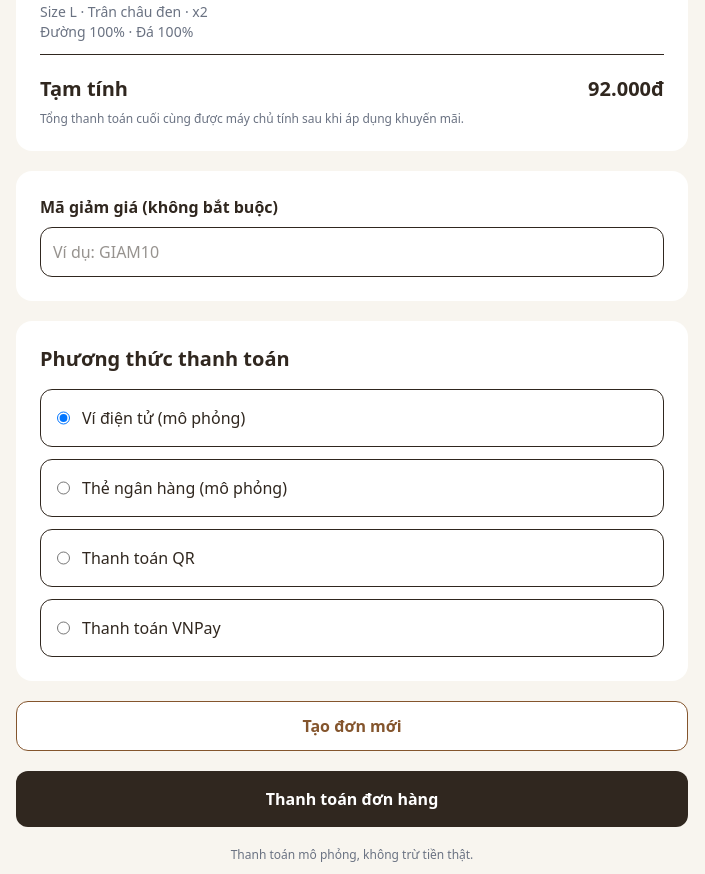
Test case: Checkout - xu ly don hang cu › gio thay doi: bam Tao don moi de dat lai
(page scrolled)
Click the button "Thanh toán đơn hàng".
click(352, 799)  # box x1=16 y1=771 x2=688 y2=827
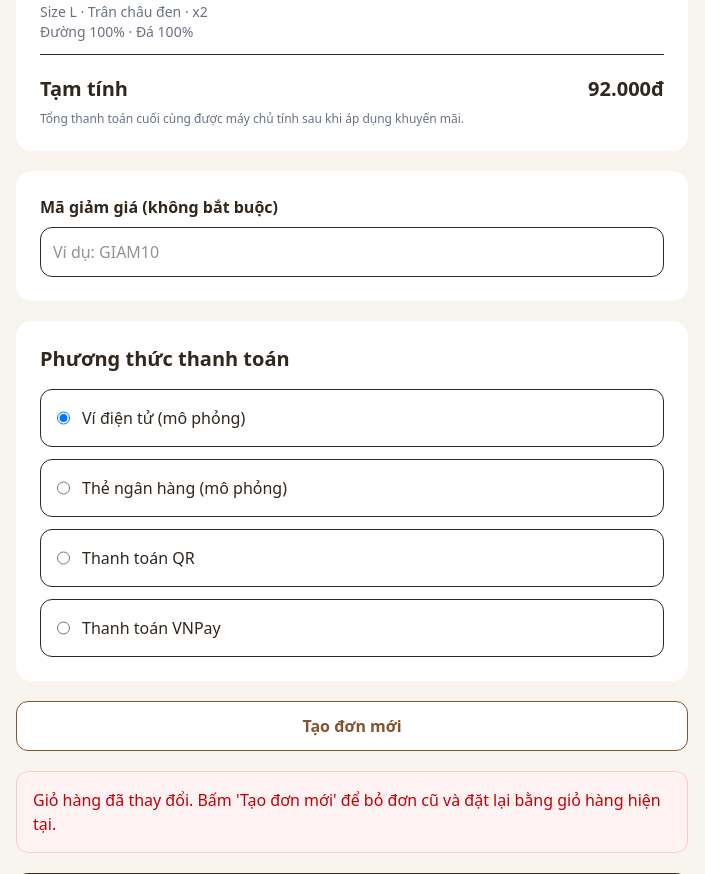
Result: the text "Giỏ hàng đã thay đổi" is shown at x1=33 y1=789 x2=661 y2=835
Click the button "Tạo đơn mới".
click(352, 726)  # box x1=16 y1=701 x2=688 y2=751
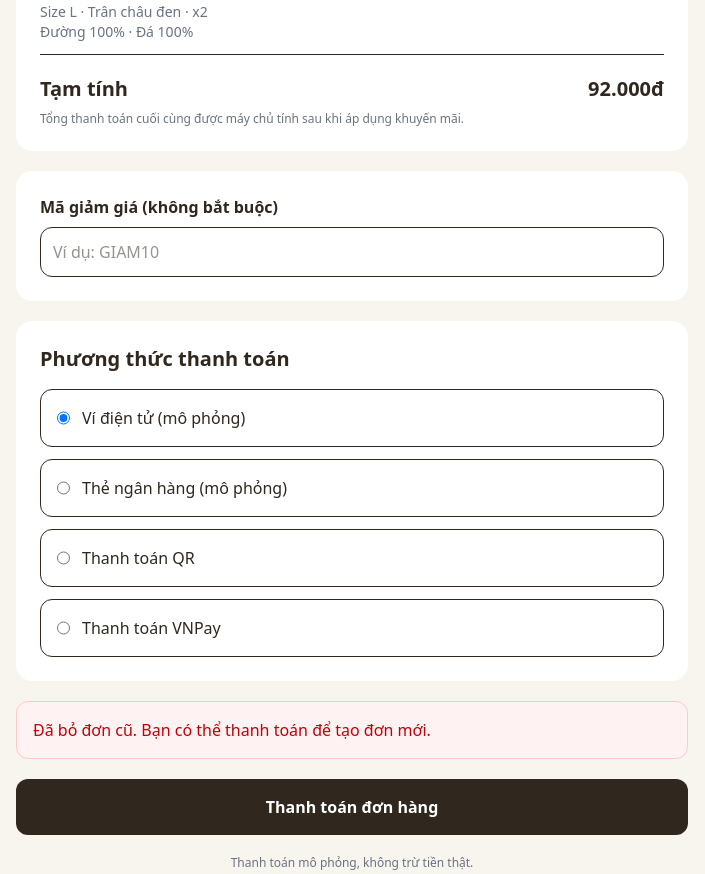
Click the button "Thanh toán đơn hàng".
click(352, 807)  # box x1=16 y1=779 x2=688 y2=835
(page scrolled)
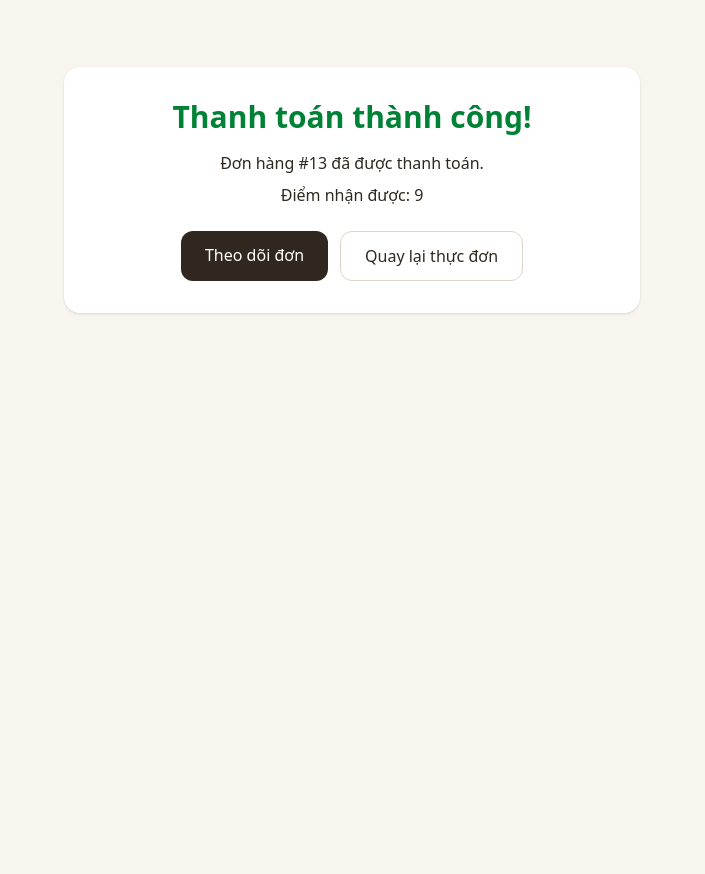
Result: the heading "Thanh toán thành công!" is shown at x1=172 y1=96 x2=532 y2=137
Result: the text "Đơn hàng #13 đã được thanh toán." is shown at x1=220 y1=152 x2=484 y2=174
